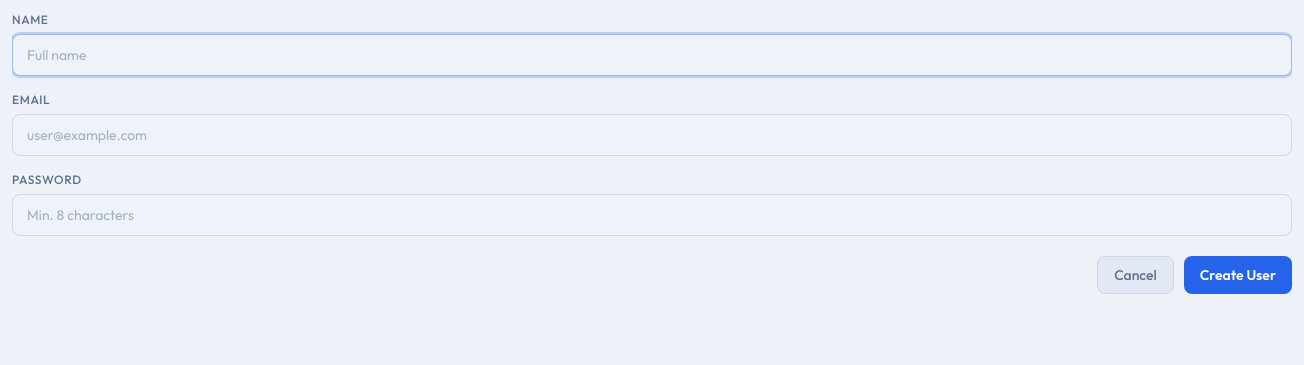
UserForm — server errors › shows a network error banner when there is no response
Step 1. Type "Test User" into the field with placeholder "Full name" → (652,55), box left=12, top=34, right=1292, bottom=76
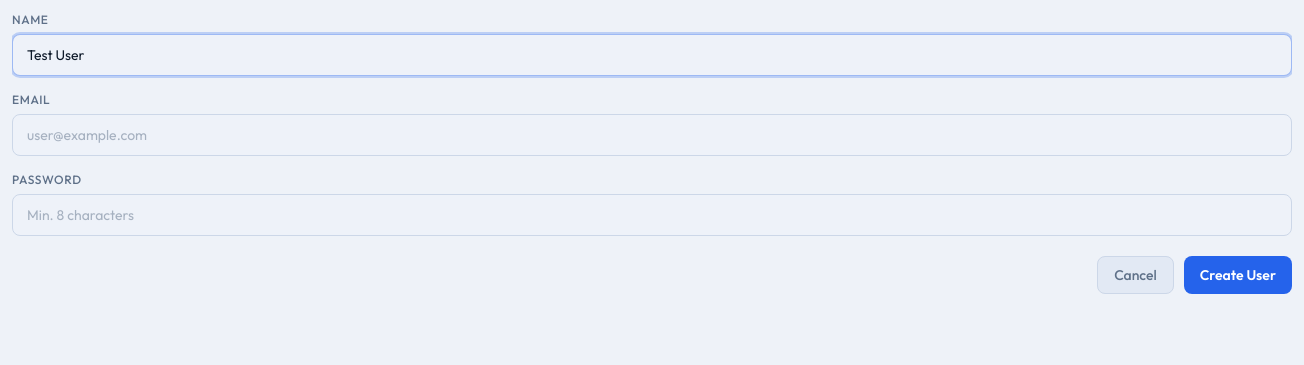
Step 2. Type "test@example.com" into the field with placeholder "user@example.com" → (652,135), box left=12, top=114, right=1292, bottom=156
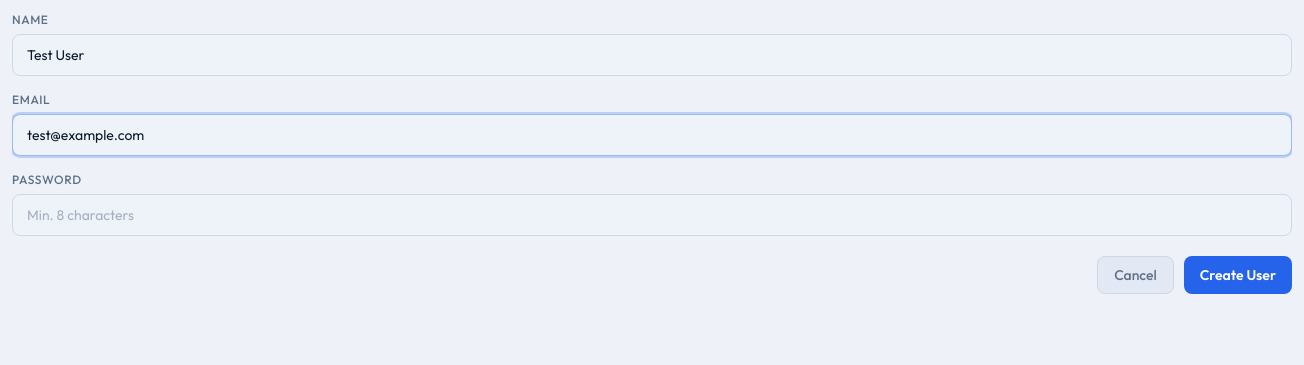
Step 3. Type "password123" into the password field with placeholder "Min. 8 characters" → (652,215), box left=12, top=194, right=1292, bottom=236
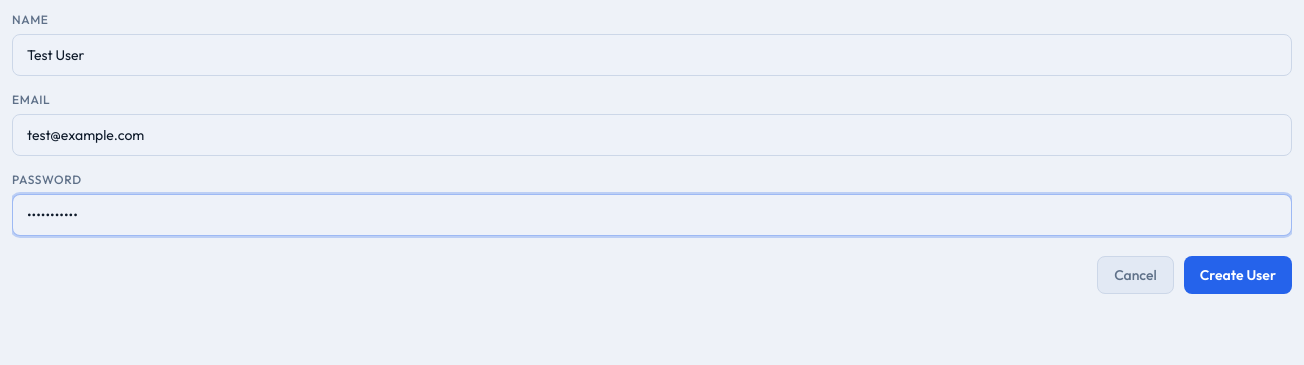
Step 4. Click the button "Create User" → (1238,275), box left=1184, top=256, right=1292, bottom=294
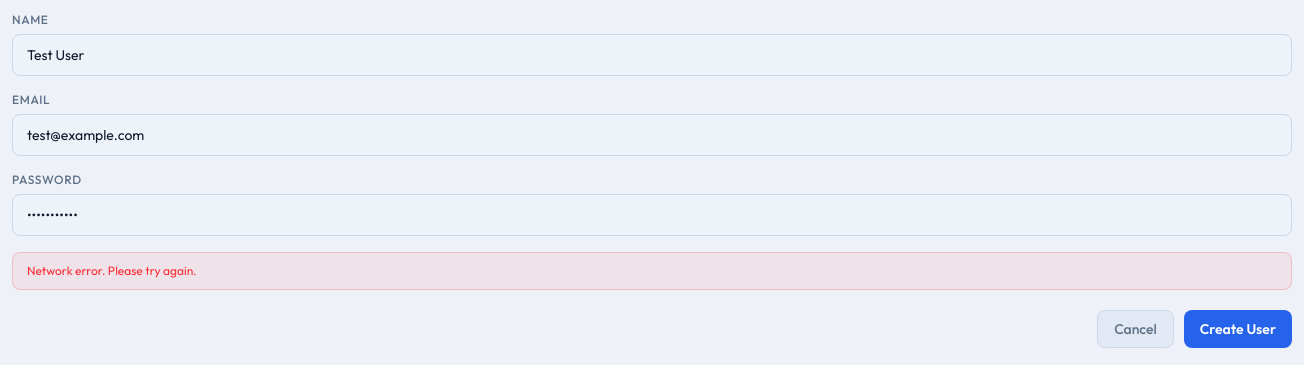
Now the text "Network error. Please try again." is shown, box left=12, top=252, right=1292, bottom=290
